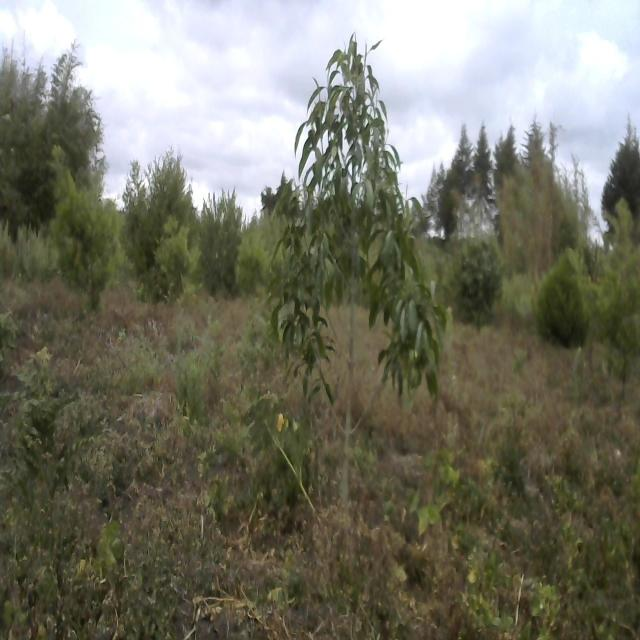Juniperus procesera: (537, 258, 589, 348), (603, 114, 640, 228), (444, 117, 474, 222), (498, 122, 525, 226), (474, 116, 496, 229)
Olea welwitchii: (268, 32, 446, 510)
